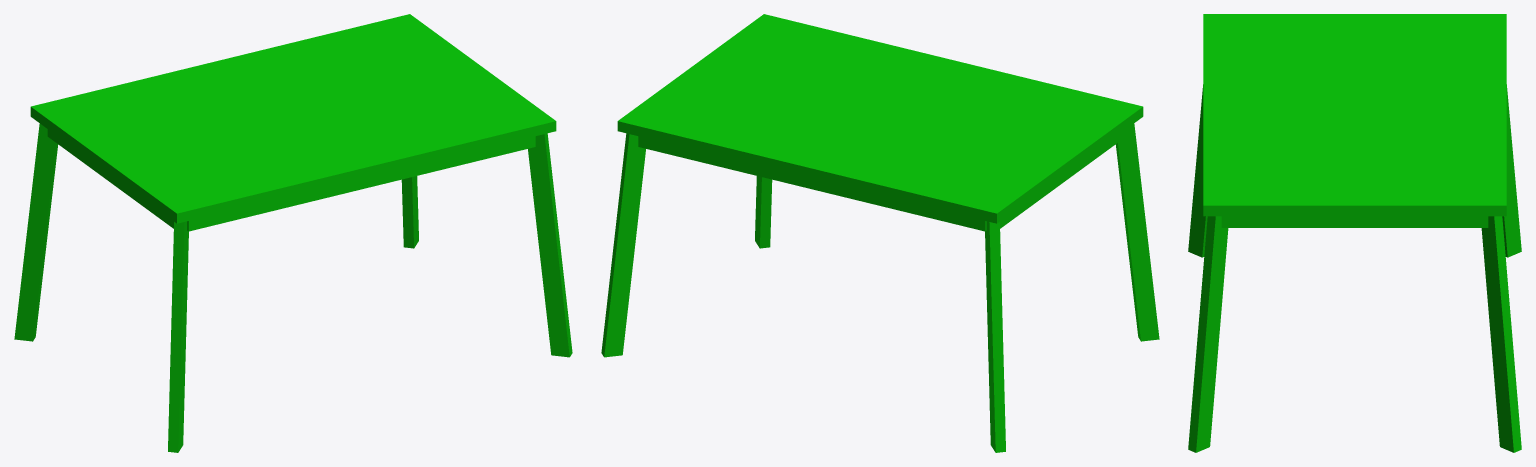
The model's file is UCX_Table3.fbx.
3 views of the same model, side by side, from view 1: azimuth 30°, elevation 25°; view 2: azimuth 150°, elevation 25°; view 3: azimuth 270°, elevation 25° (orthographic). The views are drawn at different scales.
Visible parts, largest first — view 1: UCX_Table3; view 2: UCX_Table3; view 3: UCX_Table3.
Boxes of the visible parts, box(x1,y1,x2,y2) form: UCX_Table3: box(14, 14, 572, 452); UCX_Table3: box(601, 14, 1159, 452); UCX_Table3: box(1188, 14, 1521, 452).
Size of the model in its own units: 1.28 by 0.7007 by 0.8801.
